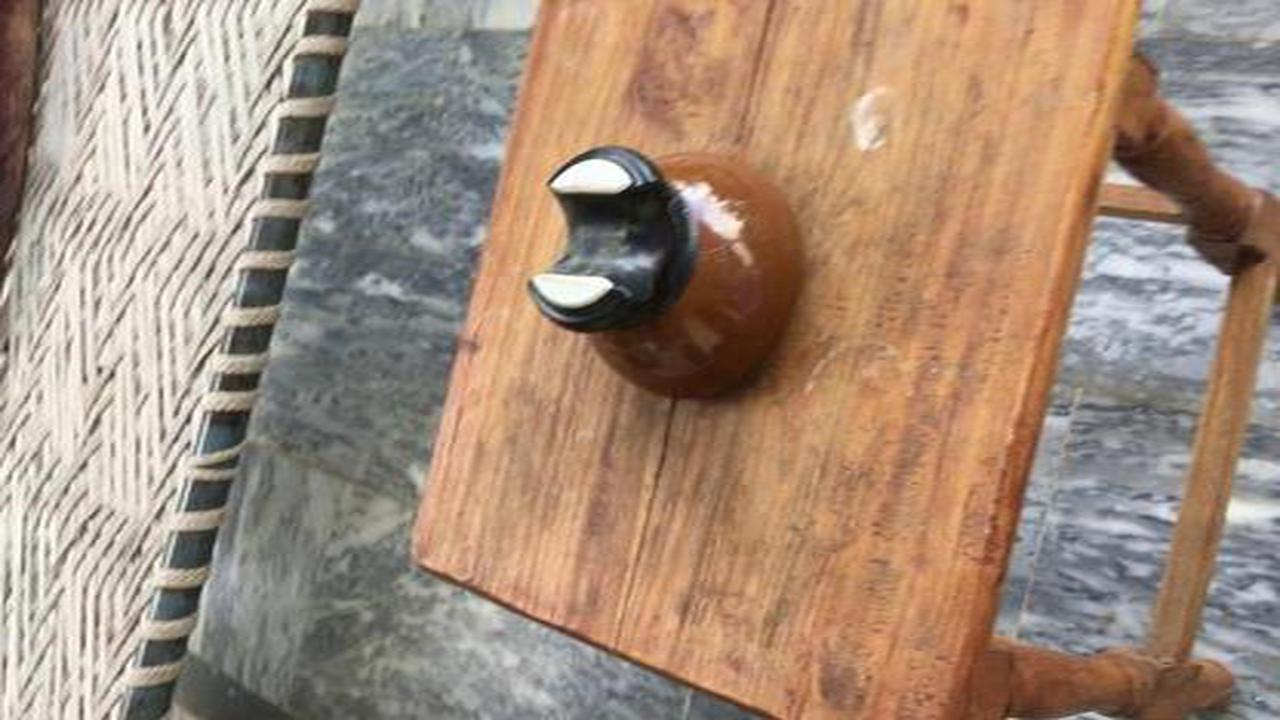insulator_pin: (517, 139, 819, 419)
